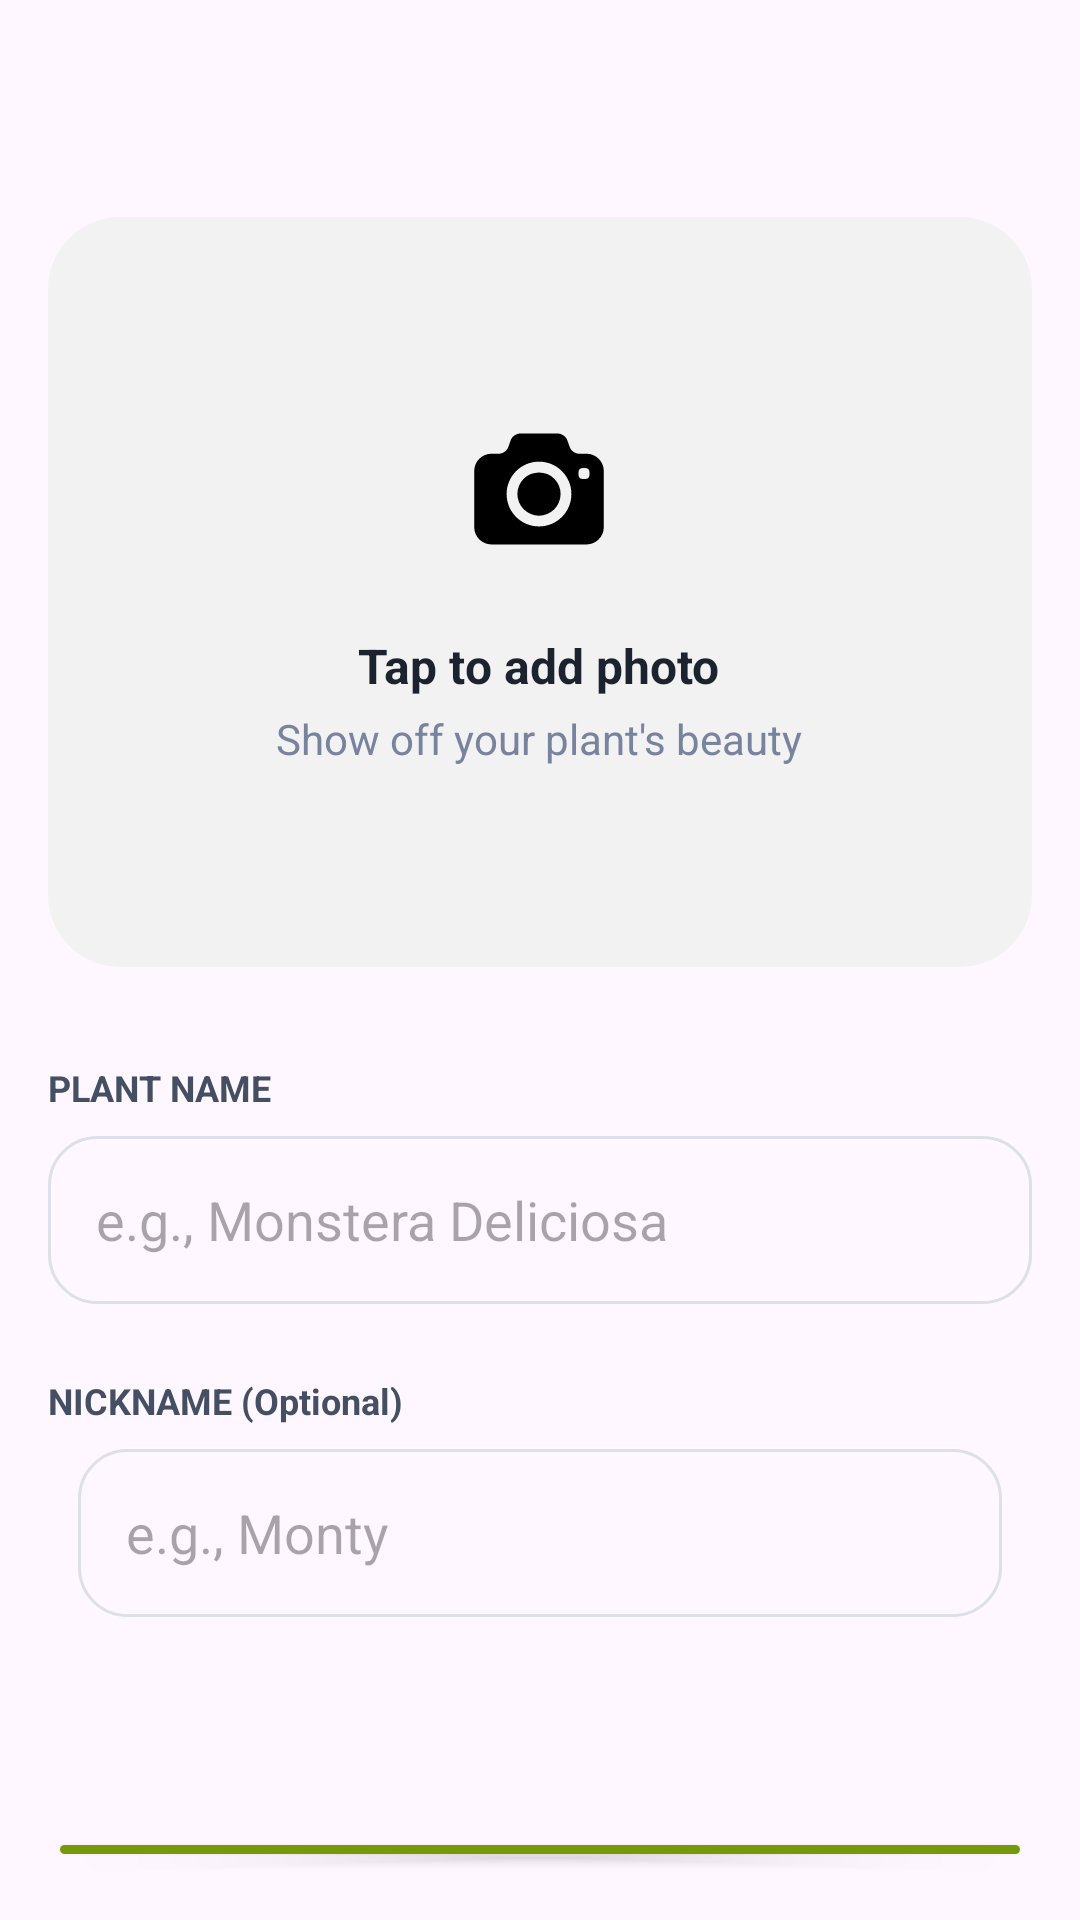

Icons on this 1080 × 1920 Android screen, each with the point to tap as (x=x, y=y):
camera: (x=539, y=489)
